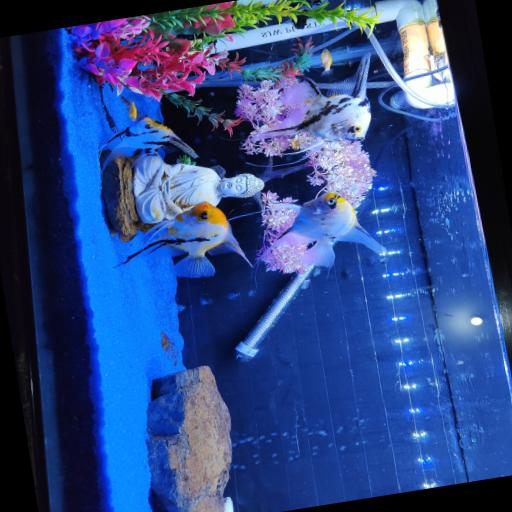Fish: (250, 53, 370, 160), (118, 201, 250, 277), (259, 191, 385, 266), (99, 117, 197, 168), (319, 48, 331, 74), (127, 101, 136, 120)
